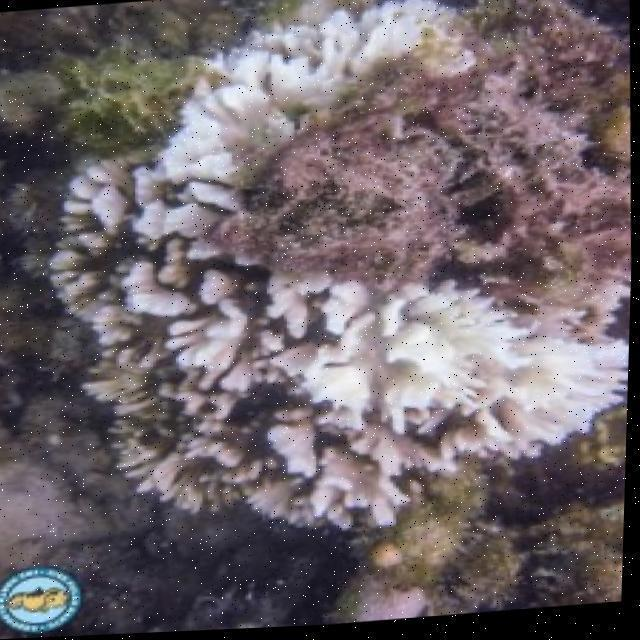Bleached Coral: (194, 260, 634, 492), (134, 0, 529, 191)
